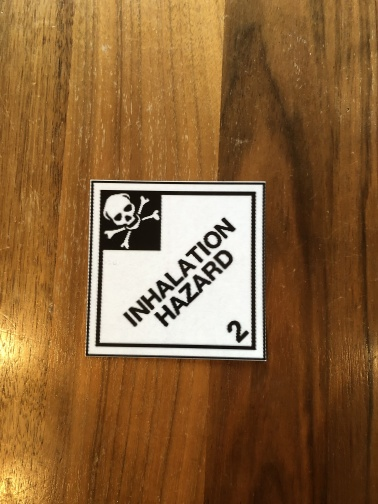InhalationHazard: (86, 180, 268, 361)
